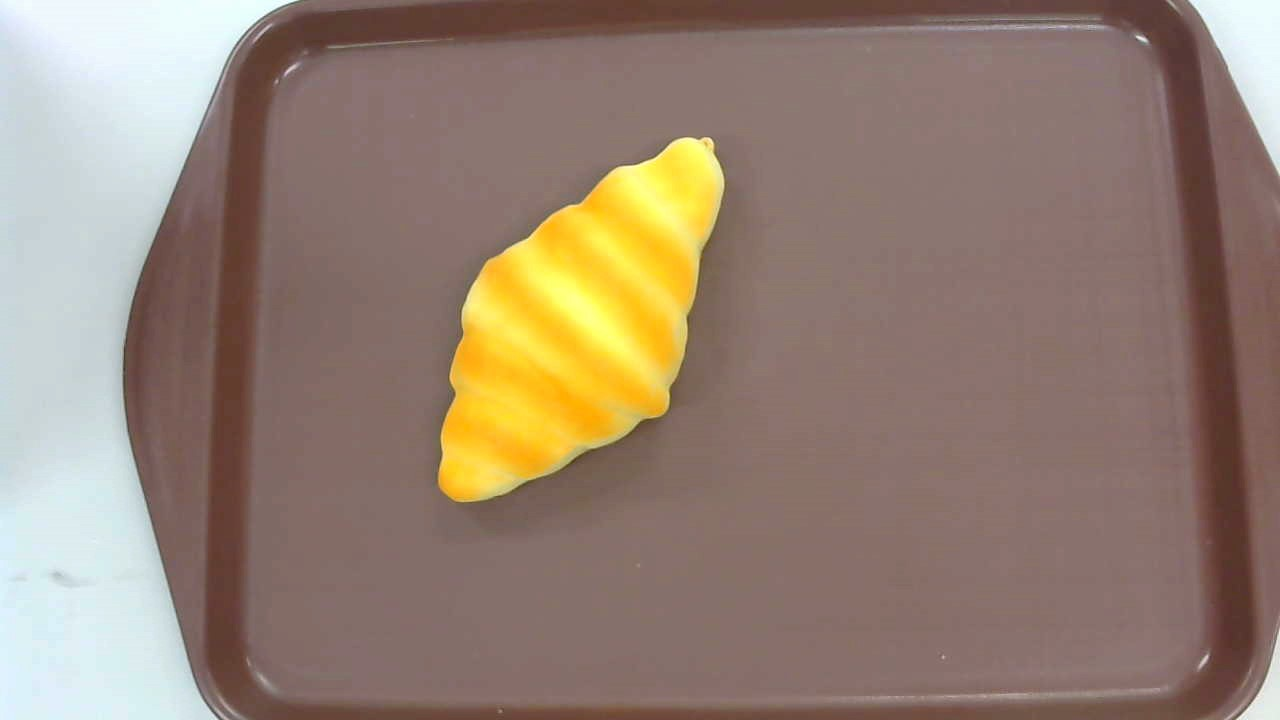croissant: (436, 135, 727, 503)
